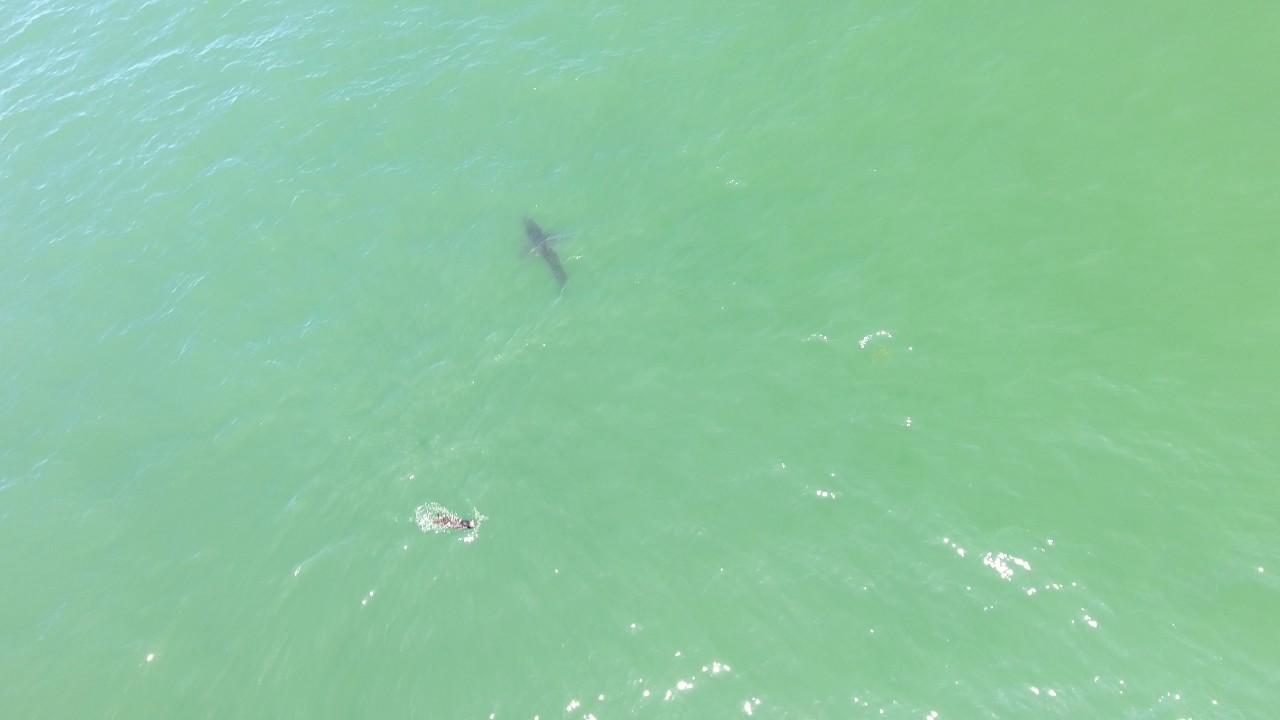shark: (508, 210, 576, 302)
